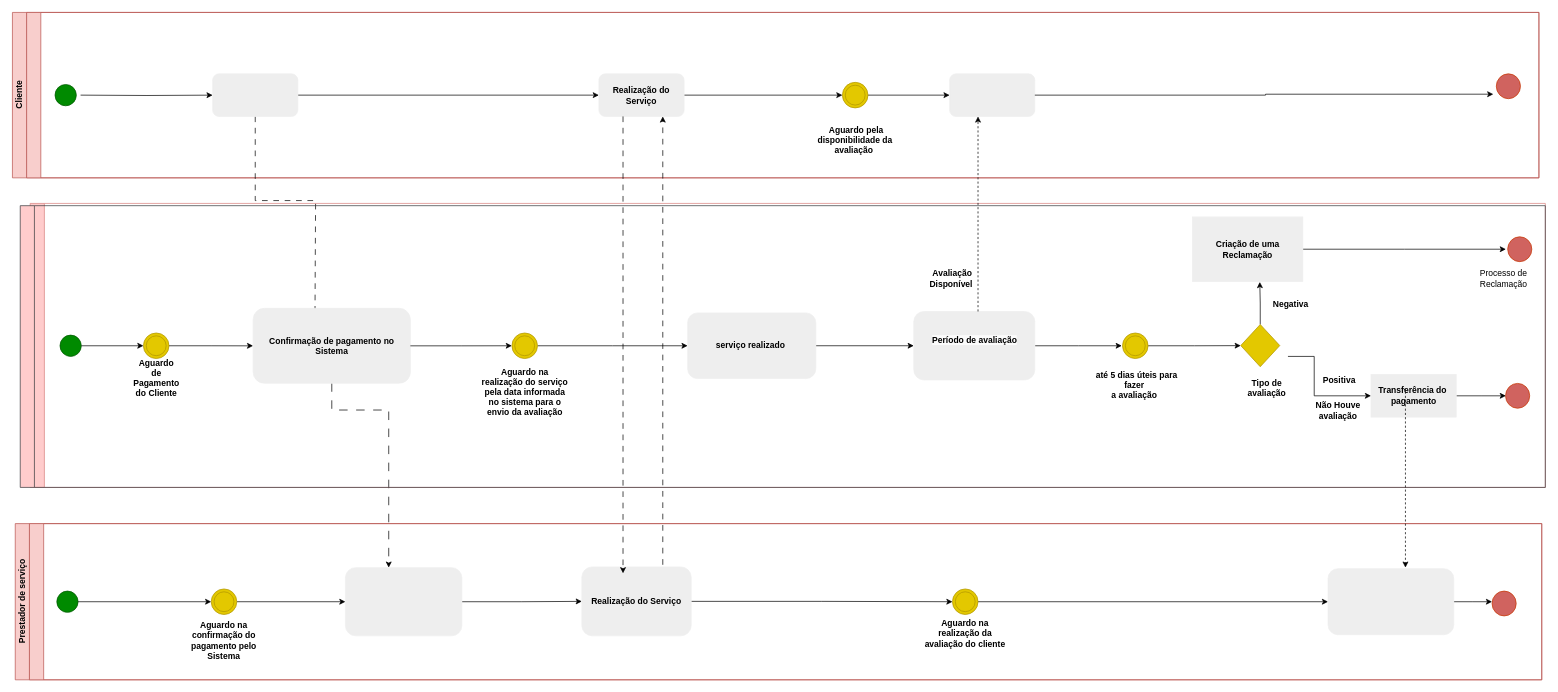
Some shapes in this 1558 by 692 pixel diagram are drawn without their labels. Each missing label, with the box of its shape:
Autorização do Serviço: (345, 567, 462, 636)
Avaliação: (949, 73, 1035, 116)
Confirmação de Pagamento: (1327, 568, 1454, 635)
Realizar Pagamento: (212, 73, 298, 116)
Sistema de Pagamento: (20, 205, 1545, 487)
